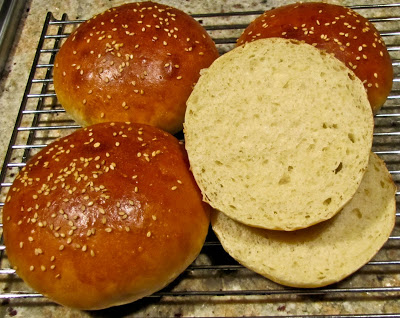hamburger_buns: (18, 4, 396, 316)
